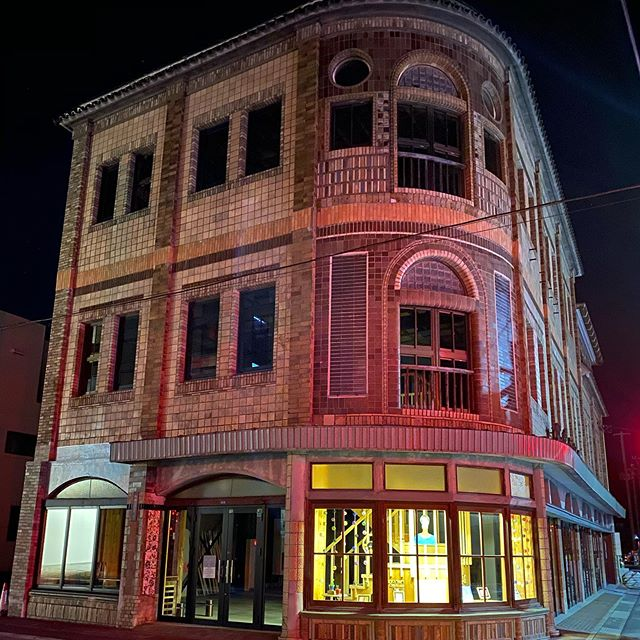building: (28, 31, 629, 610)
